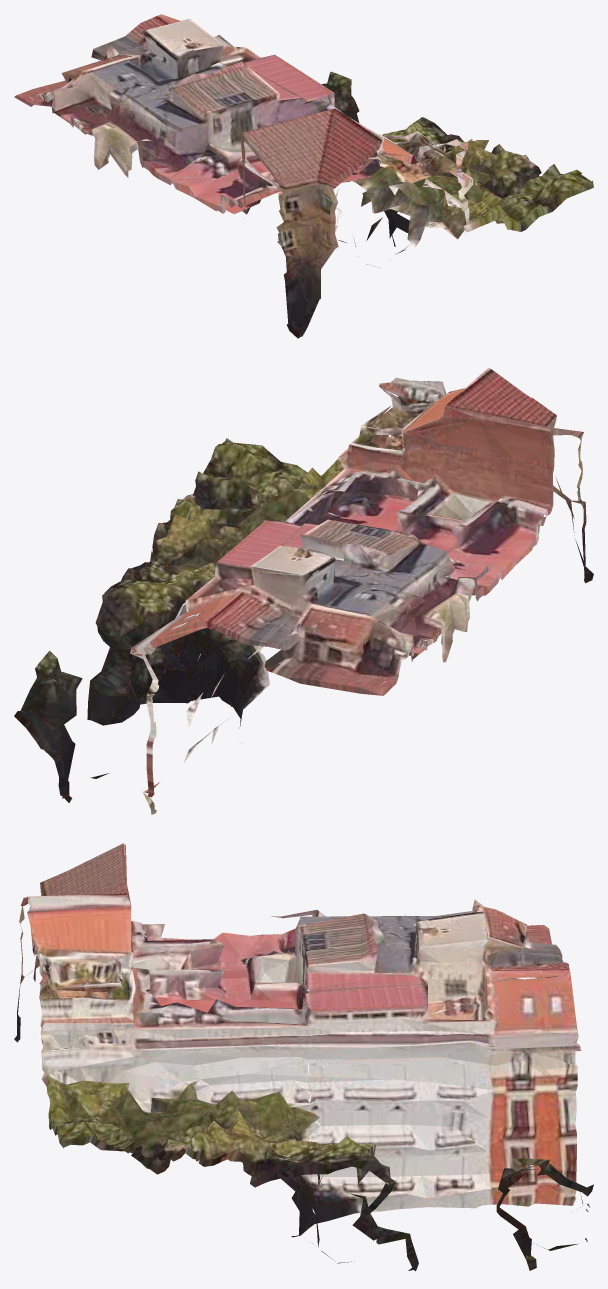
3 views of the same model, one above another, from view 1: azimuth 30°, elevation 25°; view 2: azimuth 150°, elevation 25°; view 3: azimuth 270°, elevation 25° (orthographic). The views are drawn at different scales.
Parts seen in each view (by area): view 1: Mesh_0; view 2: Mesh_0; view 3: Mesh_0.
Part boxes in pixels (x1,y1,x2,y2): Mesh_0: (14,14,593,338); Mesh_0: (14,367,593,814); Mesh_0: (14,843,593,1271).
Size of the model in its own units: 33.44 by 21.89 by 41.46.
2 materials, 2 textured.
